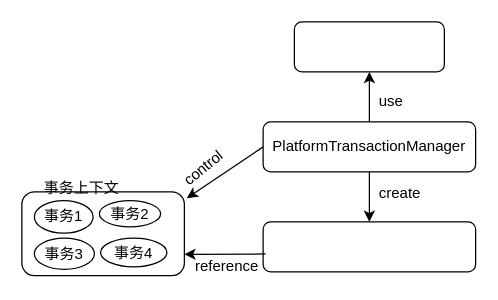
Some shapes in this 498 by 300 pixel diagram are drawn without their labels. Each missing label, with the box of its shape:
TransactionDefinition: (293, 21, 444, 72)
TransactionStatus: (262, 221, 476, 272)
